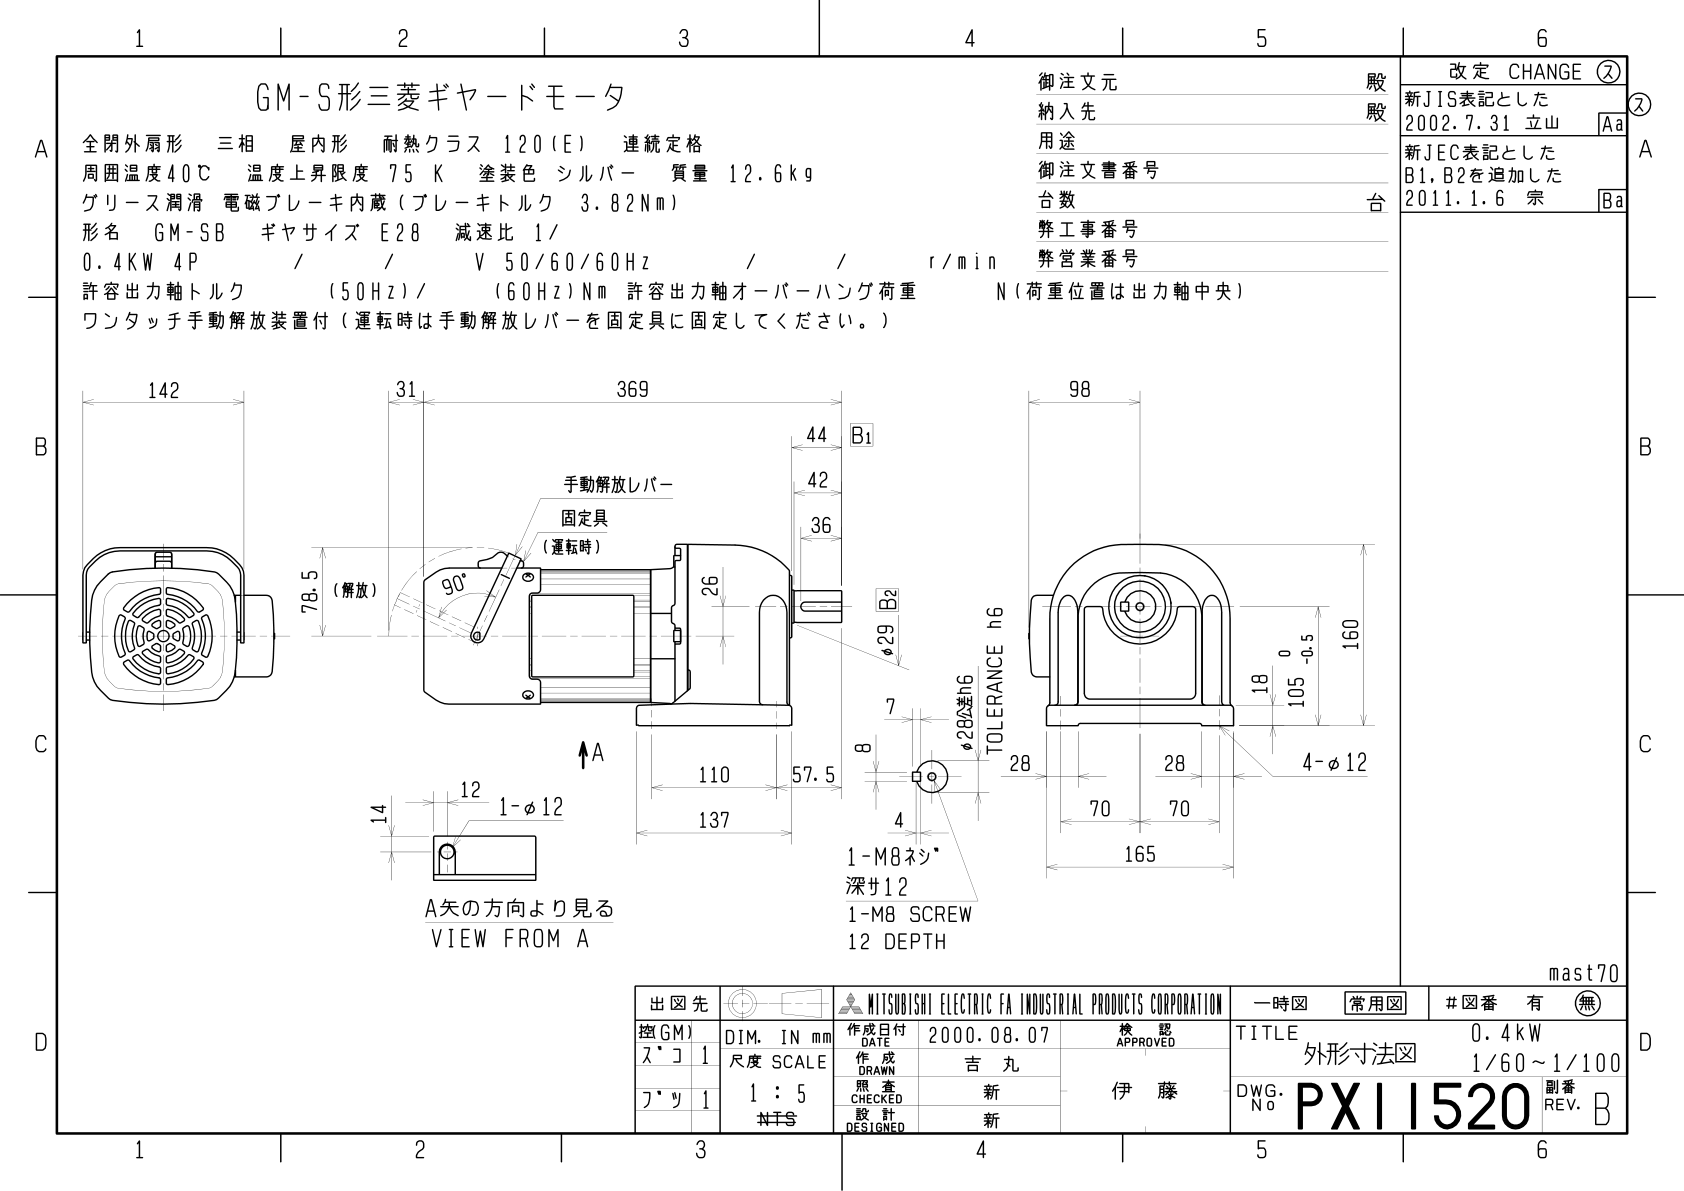GM_S_手動ブレーキ＿三相_脚: (71, 351, 1381, 963)
